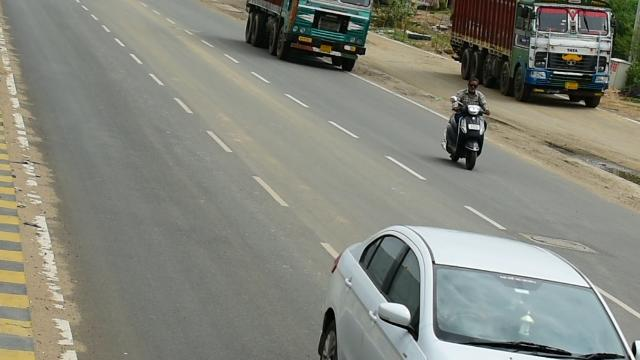Without Helmet: (466, 76, 479, 96)
